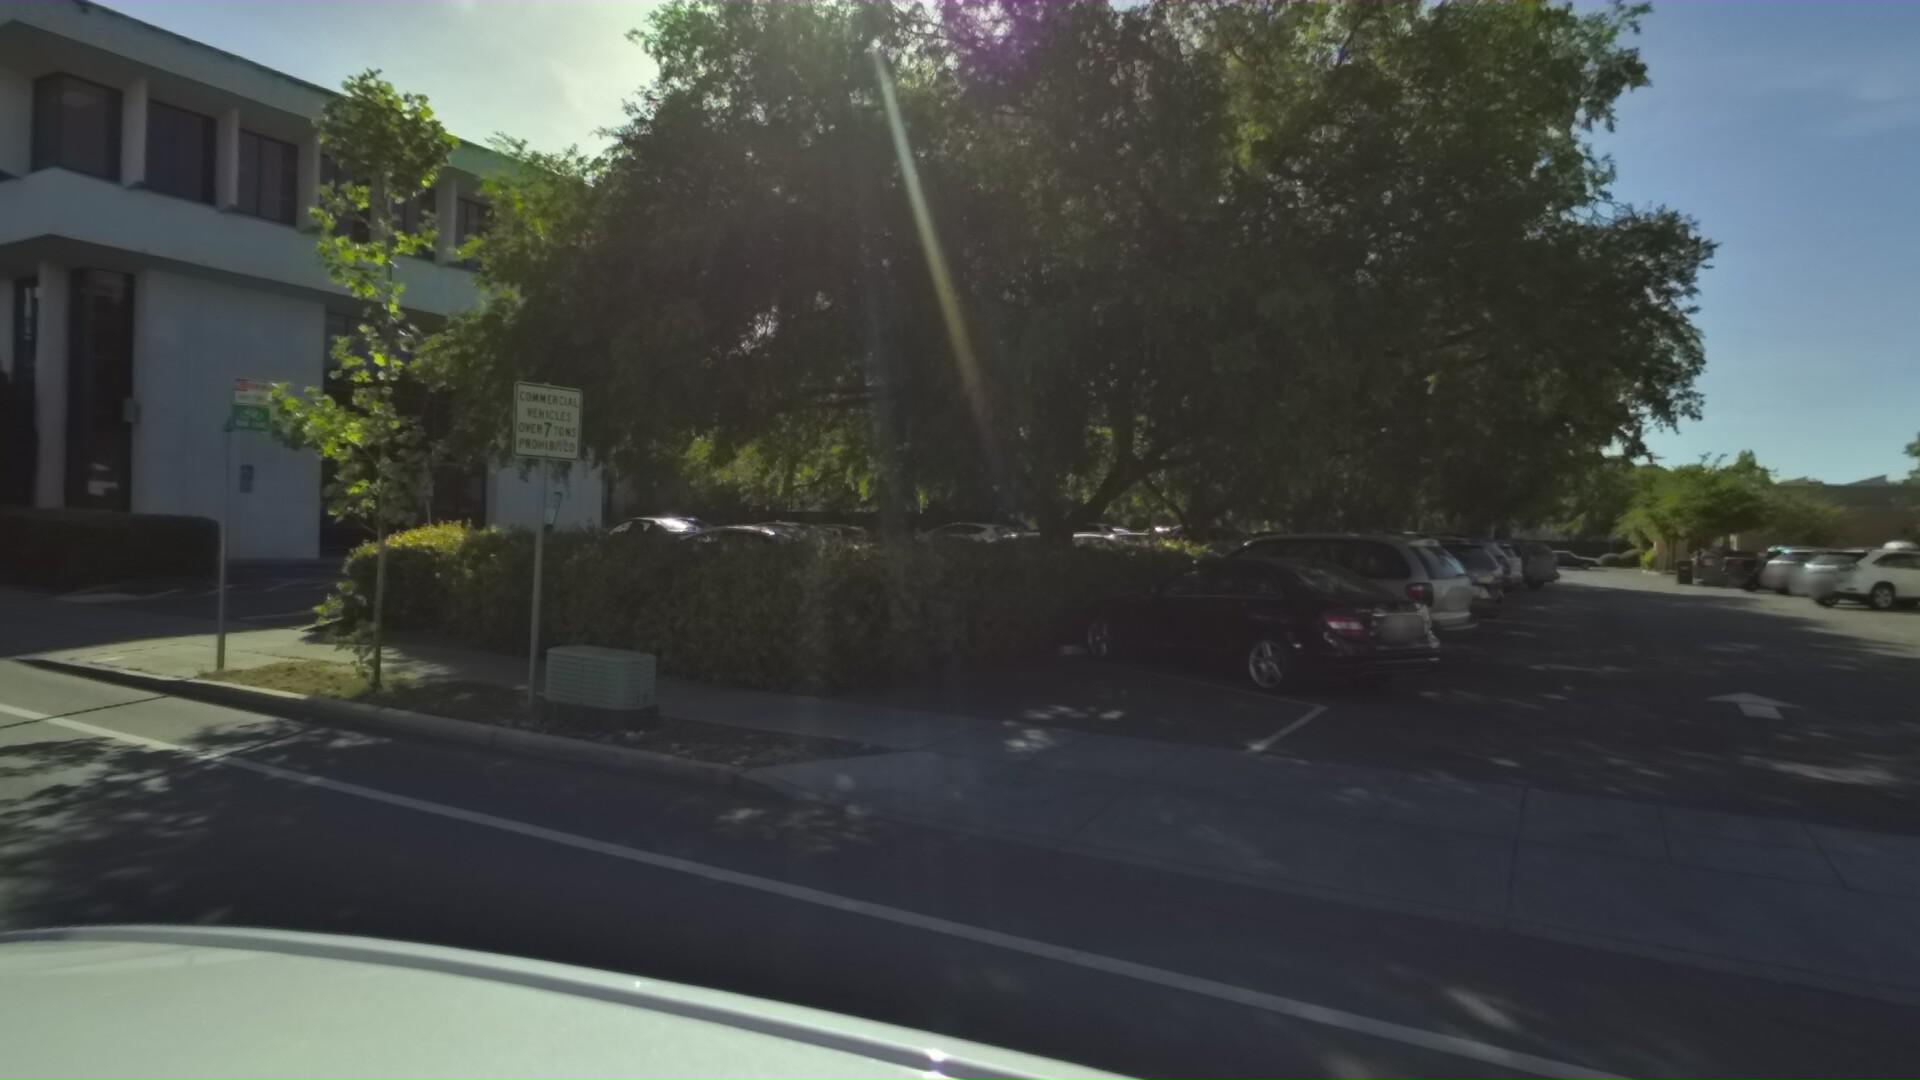car: (1048, 541, 1443, 727), (1120, 517, 1480, 679), (1520, 541, 1598, 571)
